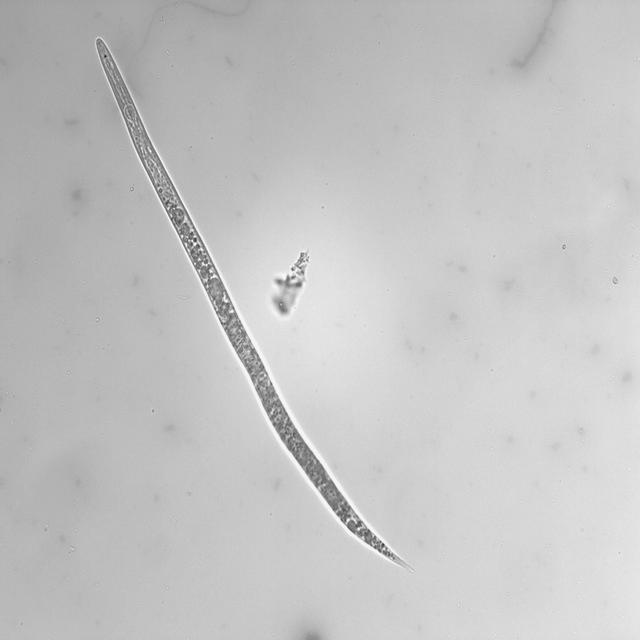Meloidogyne: (94, 33, 416, 576)
